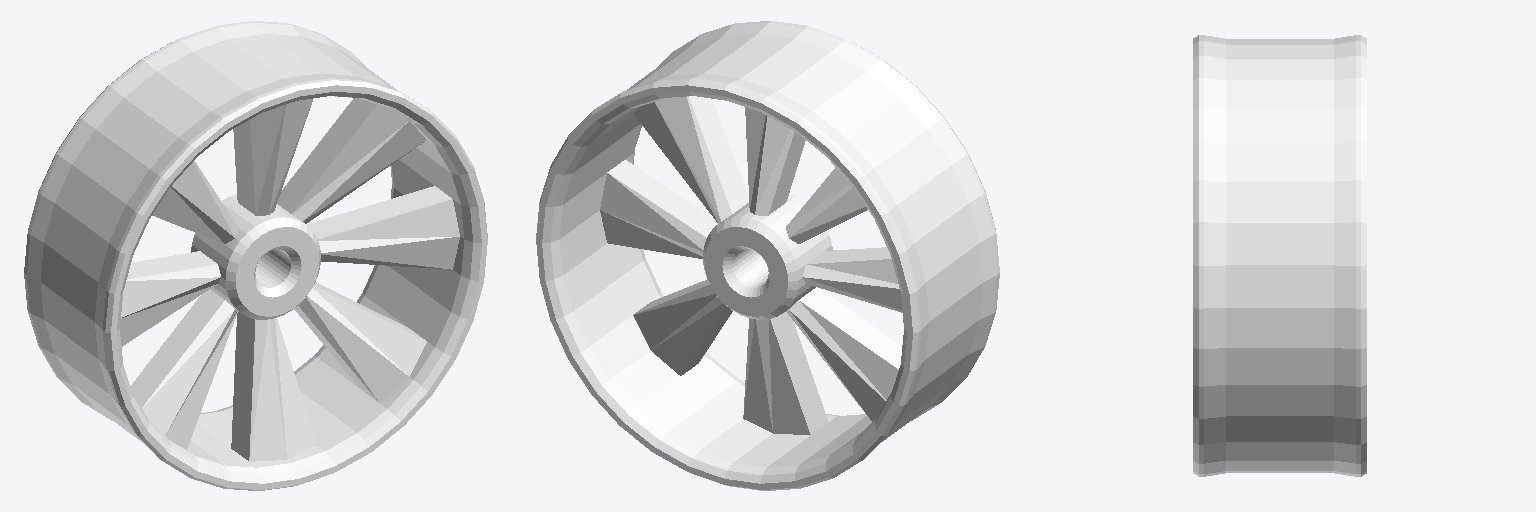
Rendered from Rim.obj.
3 views of the same model, side by side, from view 1: azimuth 30°, elevation 25°; view 2: azimuth 150°, elevation 25°; view 3: azimuth 270°, elevation 25° (orthographic).
Visible parts, largest first — view 1: g0; view 2: g0; view 3: g0.
Part boxes in pixels (x1,y1,x2,y2): g0: (24,21,487,490); g0: (536,21,999,490); g0: (1193,35,1366,476).
Size of the model in its own units: 1.96 by 1.96 by 0.7692.